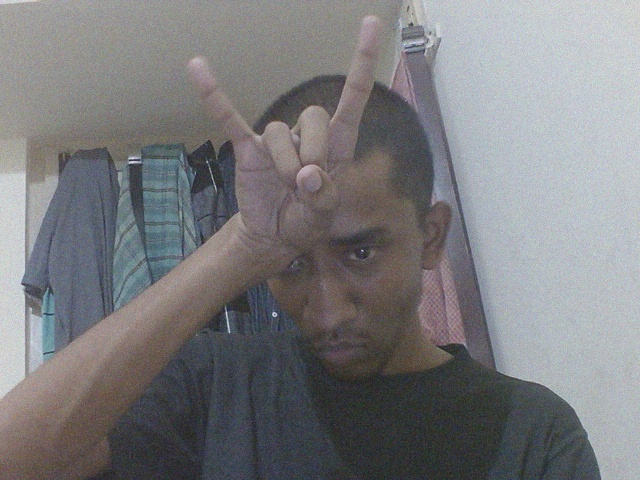hand: (178, 12, 392, 249)
